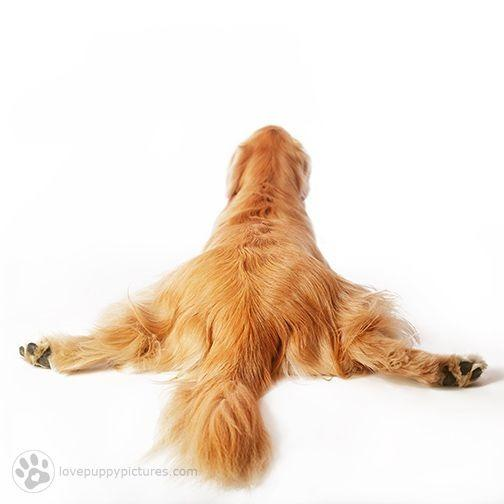adult_dog: (11, 122, 493, 490)
